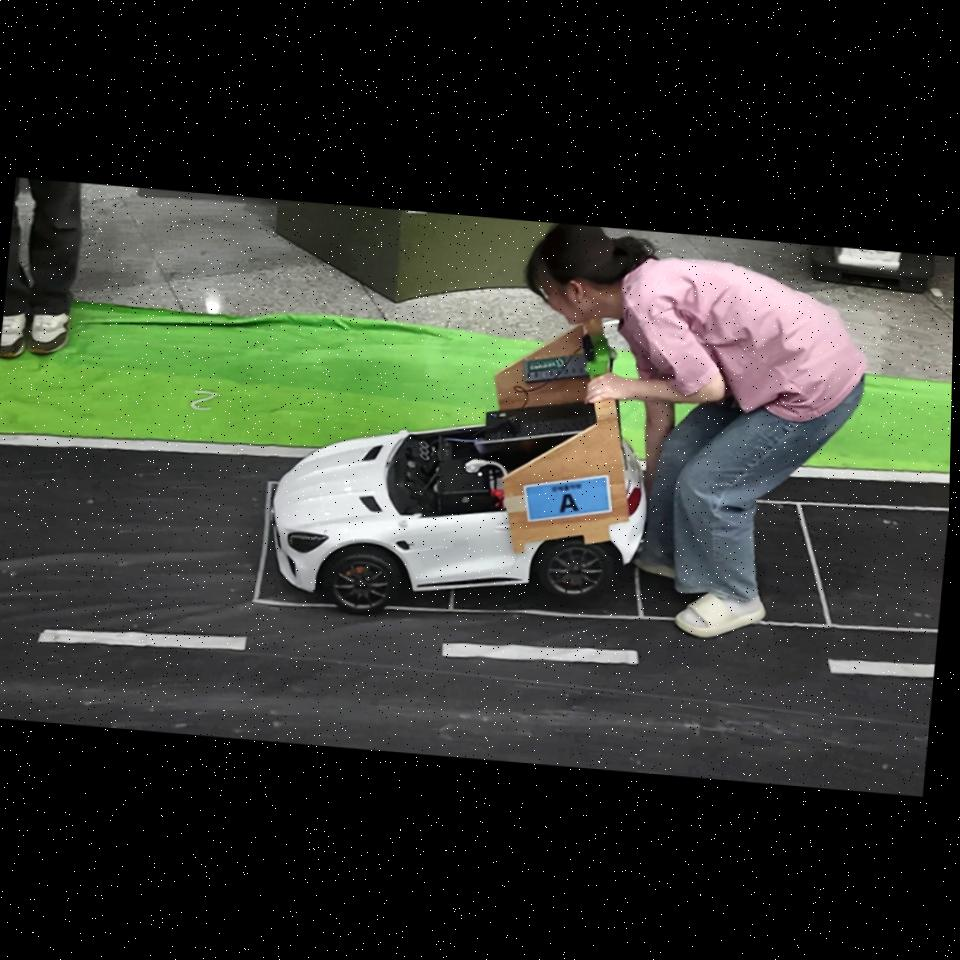broken_line: (38, 629, 247, 651), (441, 643, 639, 665), (829, 659, 934, 678)
